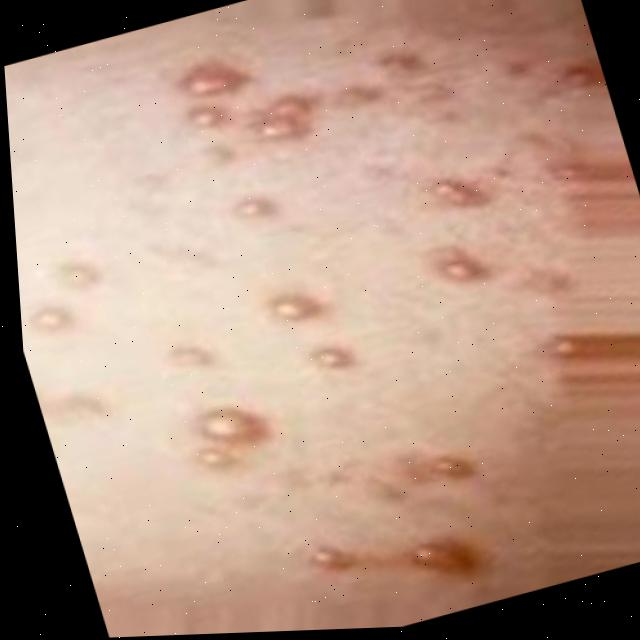Shingles: (404, 527, 485, 588), (245, 88, 322, 150), (192, 397, 269, 453), (177, 51, 251, 105), (427, 168, 491, 219), (430, 242, 489, 292), (265, 283, 326, 330), (357, 467, 411, 514), (423, 446, 476, 489), (404, 73, 457, 114), (325, 77, 379, 117), (54, 255, 103, 296), (167, 338, 216, 377), (231, 190, 279, 229), (62, 386, 109, 425), (375, 45, 424, 81), (309, 340, 355, 378), (28, 301, 74, 339), (308, 540, 355, 577)
